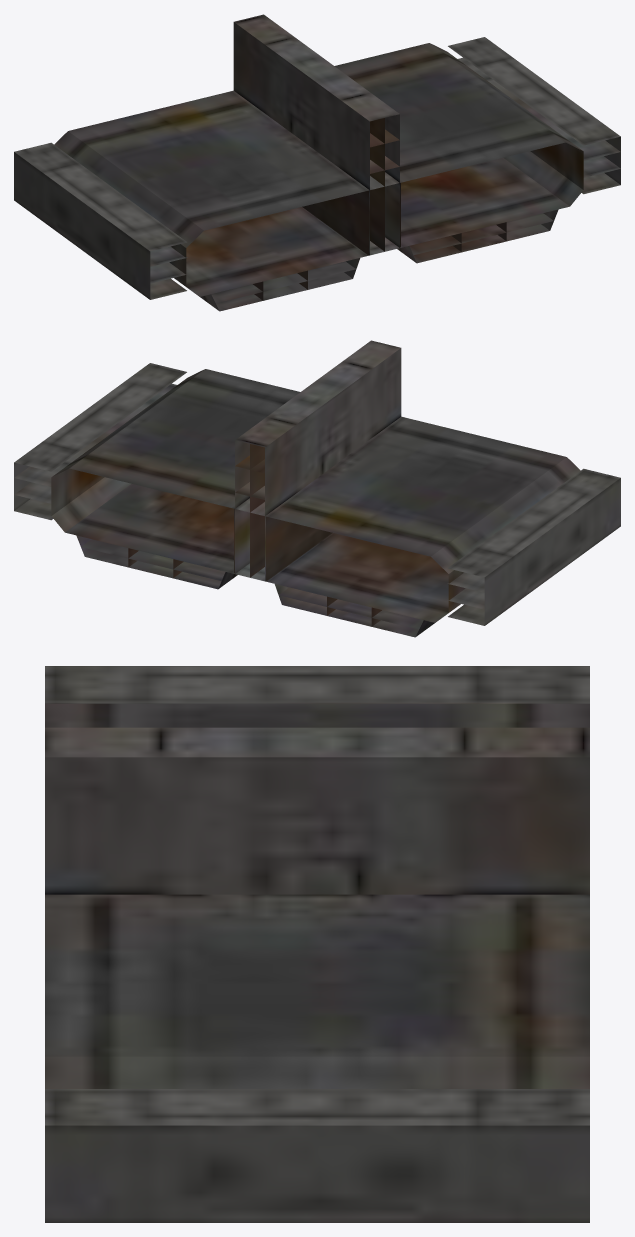
Rendered from T95E1_Track.fbx.
3 renders of one model, top to bottom at view 1: azimuth 30°, elevation 25°; view 2: azimuth 150°, elevation 25°; view 3: azimuth 270°, elevation 25°, orthographic. The views are drawn at different scales.
Parts seen in each view (by area): view 1: Track; view 2: Track; view 3: Track.
Part boxes in pixels (x1,y1,x2,y2): Track: (14, 14, 620, 311); Track: (14, 340, 620, 637); Track: (45, 666, 589, 1222).
Bounding box in the file's own units: 46.43 × 14.45 × 23.26.
